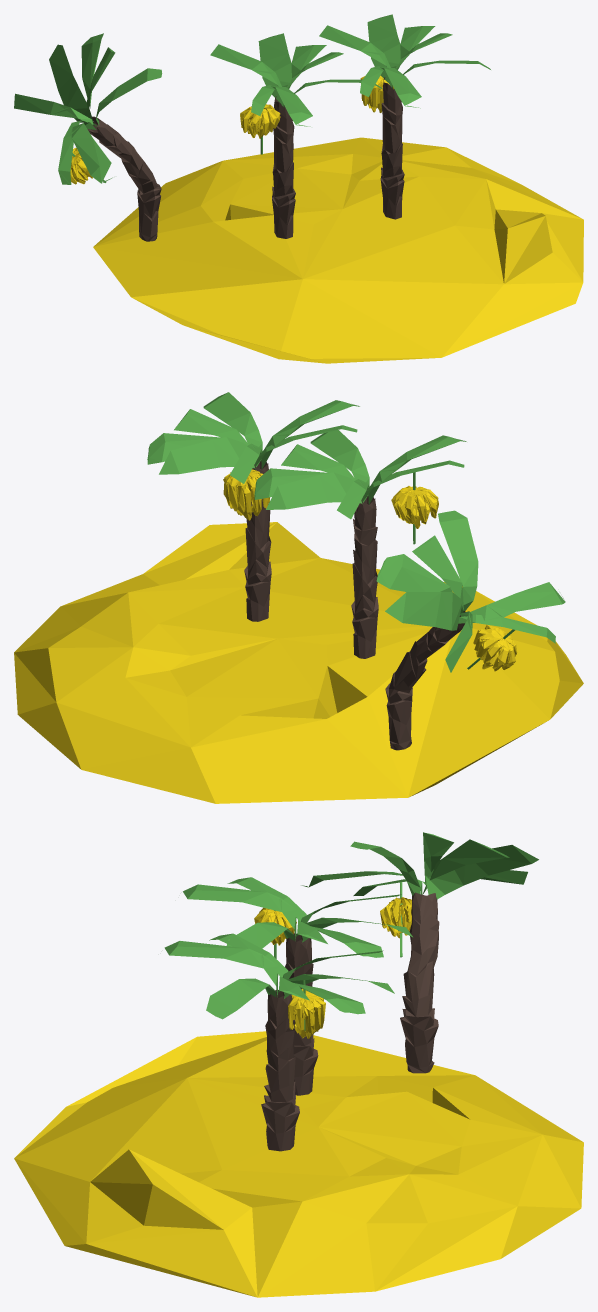
The model's file is IslandLowPoly.fbx.
3 renders of one model, top to bottom at view 1: azimuth 30°, elevation 25°; view 2: azimuth 150°, elevation 25°; view 3: azimuth 270°, elevation 25°, orthographic. The views are drawn at different scales.
Parts seen in each view (by area): view 1: Landschaft_1, Loft_7, Loft_7_6, Loft_7_4, Zylinder, Zylinder_8, Zylinder_6, Banane_1, Banane, Banane_2; view 2: Landschaft_1, Loft_7, Loft_7_6, Loft_7_4, Zylinder_6, Zylinder, Zylinder_8, Banane_2, Banane_1, Banane; view 3: Landschaft_1, Loft_7, Loft_7_6, Zylinder, Loft_7_4, Zylinder_8, Zylinder_6, Banane, Banane_2.
Boxes of the visible parts, bbox=[...] form: Landschaft_1: bbox=[93, 137, 583, 363]; Loft_7: bbox=[14, 33, 162, 184]; Loft_7_6: bbox=[319, 14, 490, 108]; Loft_7_4: bbox=[210, 33, 382, 126]; Zylinder: bbox=[87, 116, 161, 241]; Zylinder_8: bbox=[380, 77, 404, 219]; Zylinder_6: bbox=[272, 96, 295, 238]; Banane_1: bbox=[240, 104, 280, 138]; Banane: bbox=[360, 75, 394, 112]; Banane_2: bbox=[70, 148, 92, 184]; Landschaft_1: bbox=[14, 522, 583, 803]; Loft_7: bbox=[376, 510, 565, 672]; Loft_7_6: bbox=[147, 392, 359, 483]; Loft_7_4: bbox=[254, 427, 466, 519]; Zylinder_6: bbox=[351, 496, 378, 658]; Zylinder: bbox=[385, 611, 465, 750]; Zylinder_8: bbox=[244, 460, 271, 621]; Banane_2: bbox=[473, 625, 517, 671]; Banane_1: bbox=[391, 486, 438, 528]; Banane: bbox=[223, 469, 269, 520]; Landschaft_1: bbox=[14, 1031, 583, 1297]; Loft_7: bbox=[301, 832, 538, 899]; Loft_7_6: bbox=[164, 933, 394, 1019]; Zylinder: bbox=[400, 892, 439, 1073]; Loft_7_4: bbox=[183, 877, 412, 957]; Zylinder_8: bbox=[261, 989, 299, 1151]; Zylinder_6: bbox=[285, 933, 318, 1095]; Banane: bbox=[288, 989, 325, 1038]; Banane_2: bbox=[380, 897, 411, 938].
Size of the model in its own units: 4335 by 1847 by 3913.
Materials: 4 (4 with a texture image).
